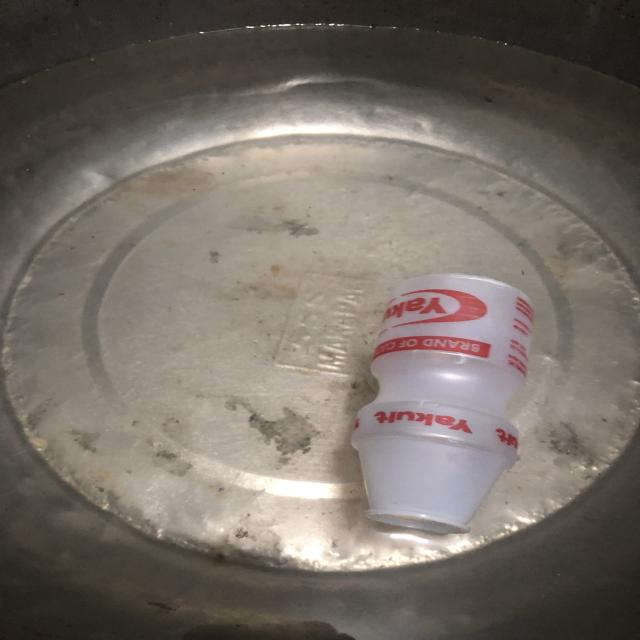Plastic Bottle: (343, 258, 540, 550)
